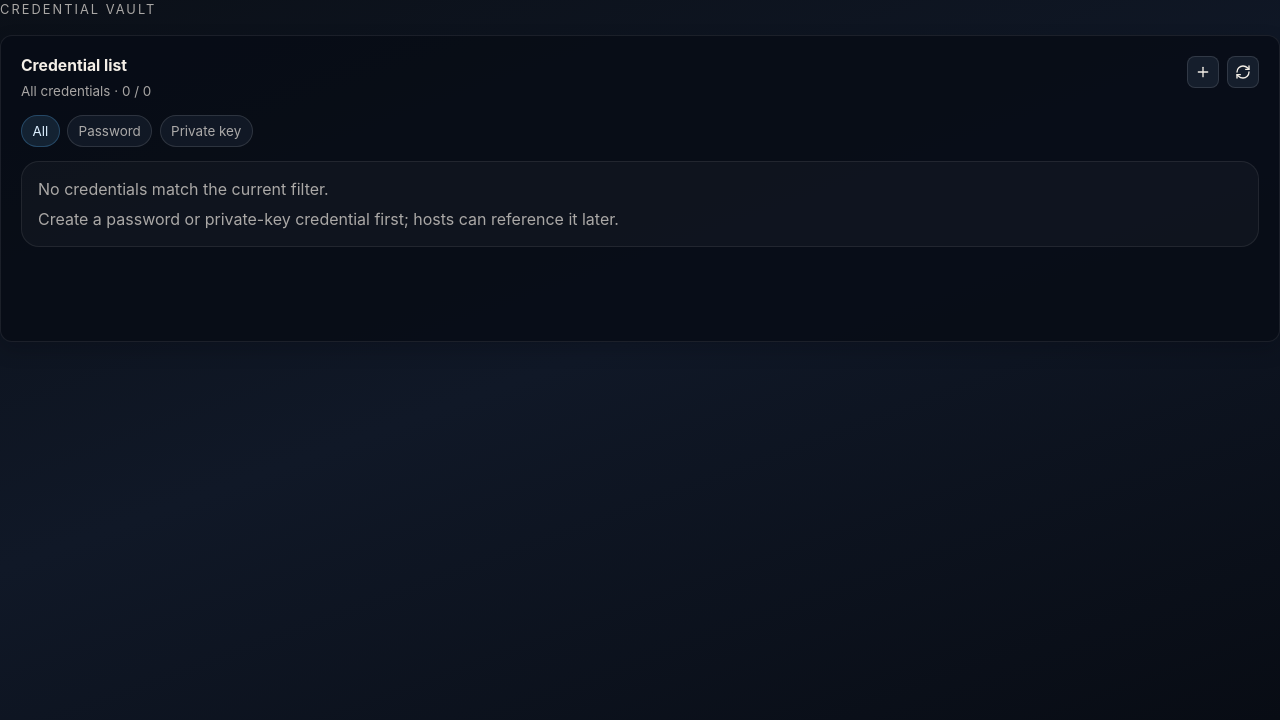
CredentialsPage › orders private key creation controls for generation, upload, then manual paste
Expected: the text "No credentials match the current filter." is shown, top-left (38, 179), bottom-right (329, 199)
Click the button named "New credential" at (1203, 72), box top-left (1187, 56), bottom-right (1219, 88)
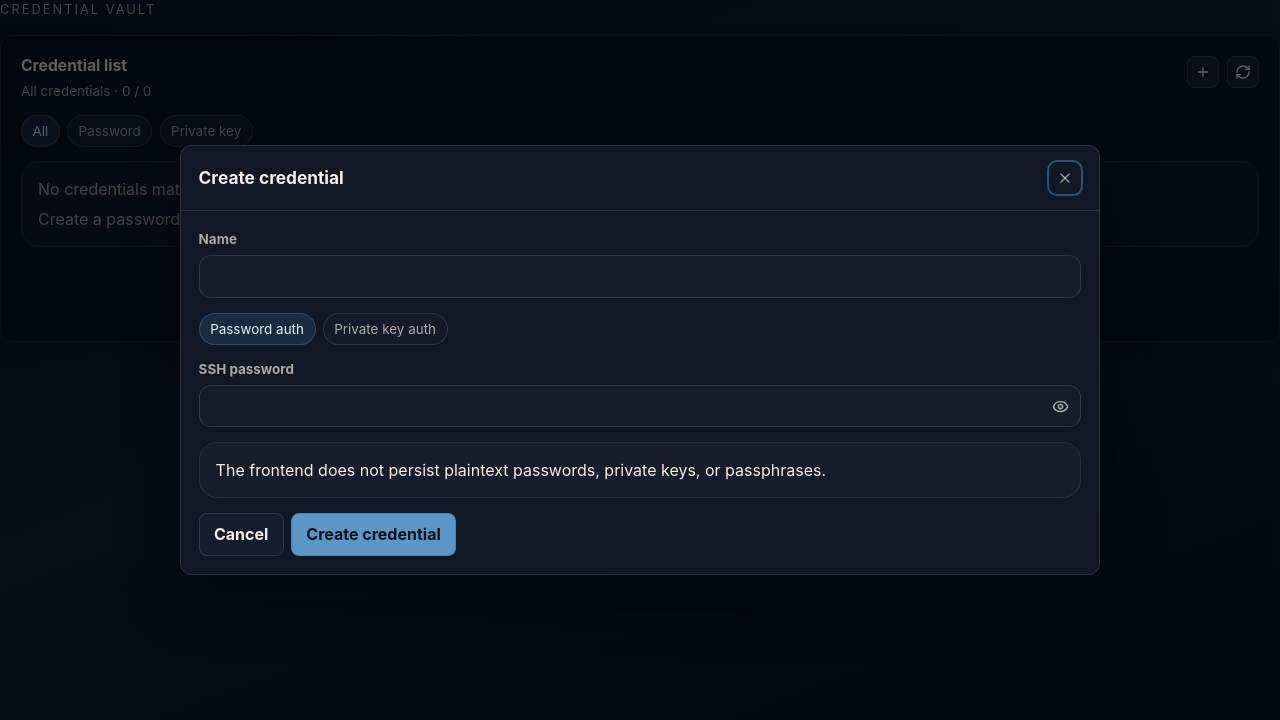
Click the button "Private key auth" at (385, 329), box top-left (323, 313), bottom-right (448, 345)
(page scrolled)
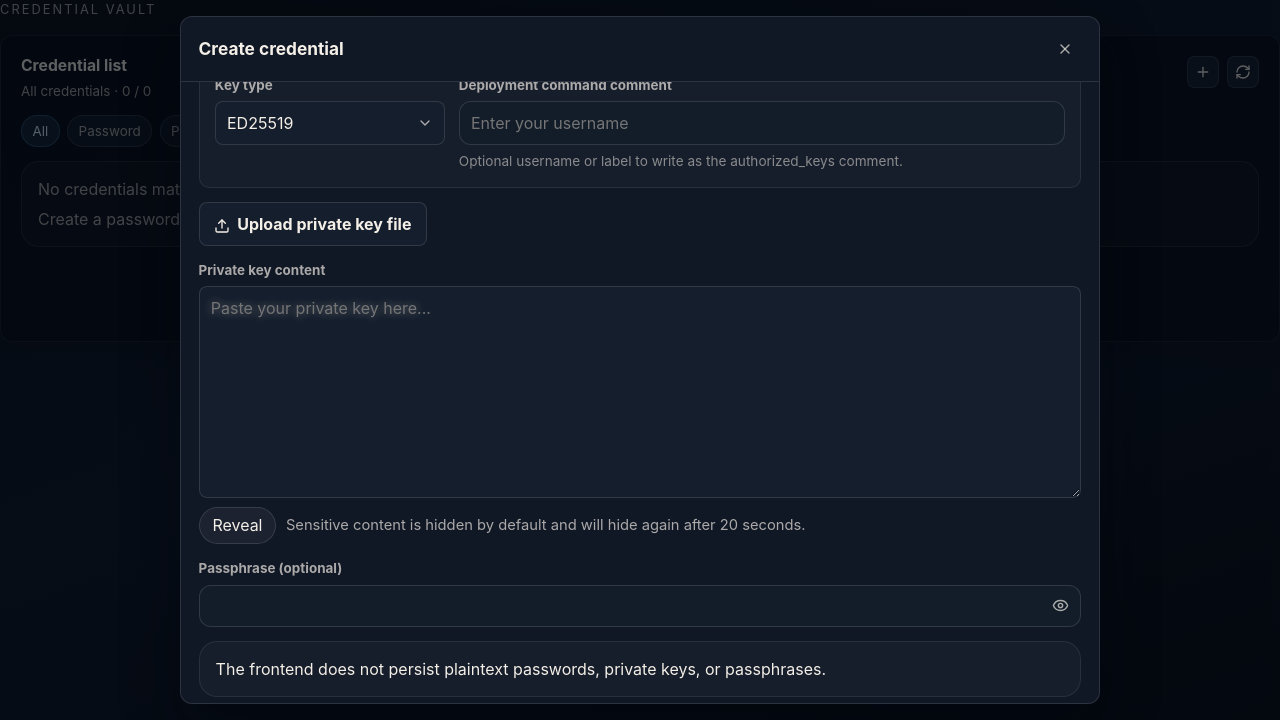
Expected: the field with placeholder "Enter your username" is shown, top-left (459, 101), bottom-right (1065, 145)
Expected: the text box with placeholder "Paste your private key here..." is shown, top-left (199, 286), bottom-right (1081, 498)
